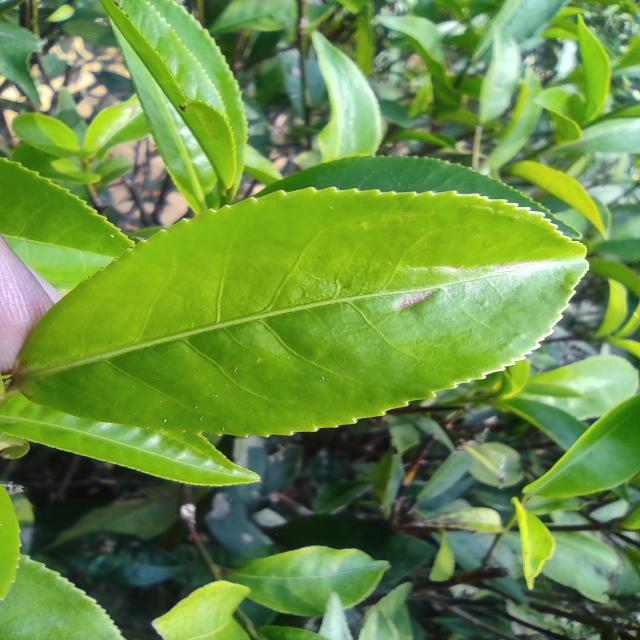Category C(4-7 days): (4, 159, 593, 460)
